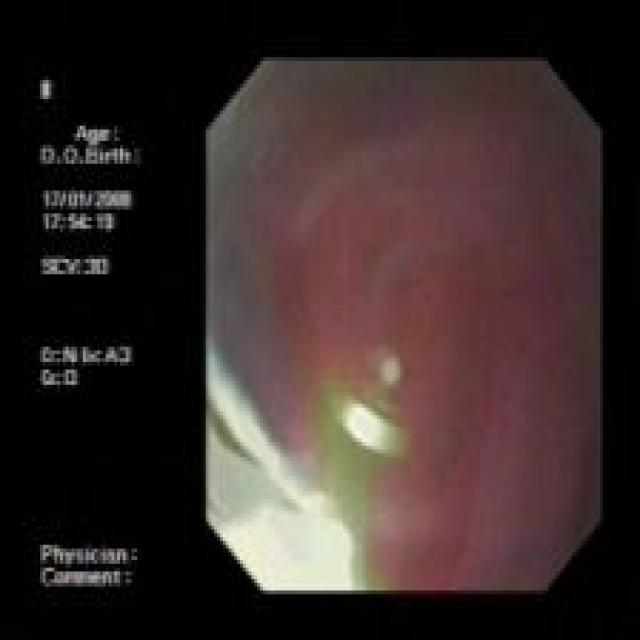color misalignment: (206, 58, 602, 590), (32, 73, 139, 589), (314, 344, 412, 590)
saturation: (218, 500, 349, 588)
